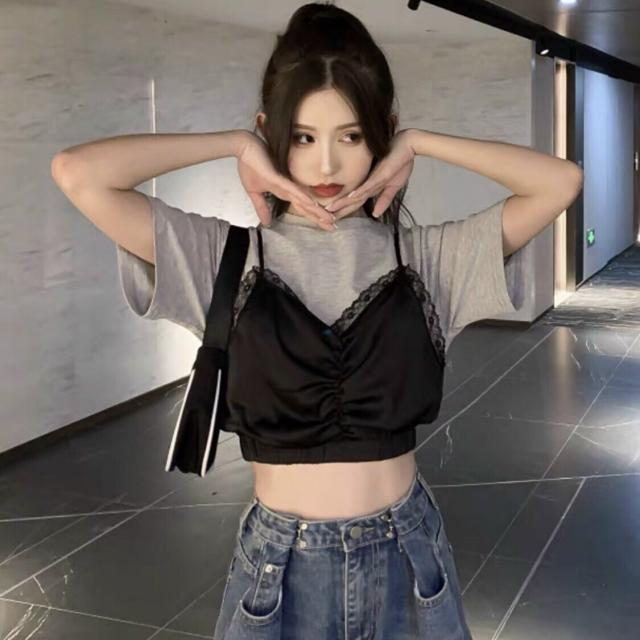clothes: (119, 195, 539, 640)
